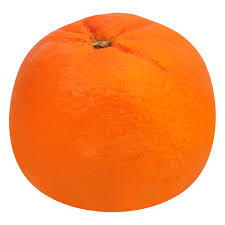orange: (10, 13, 217, 211)
